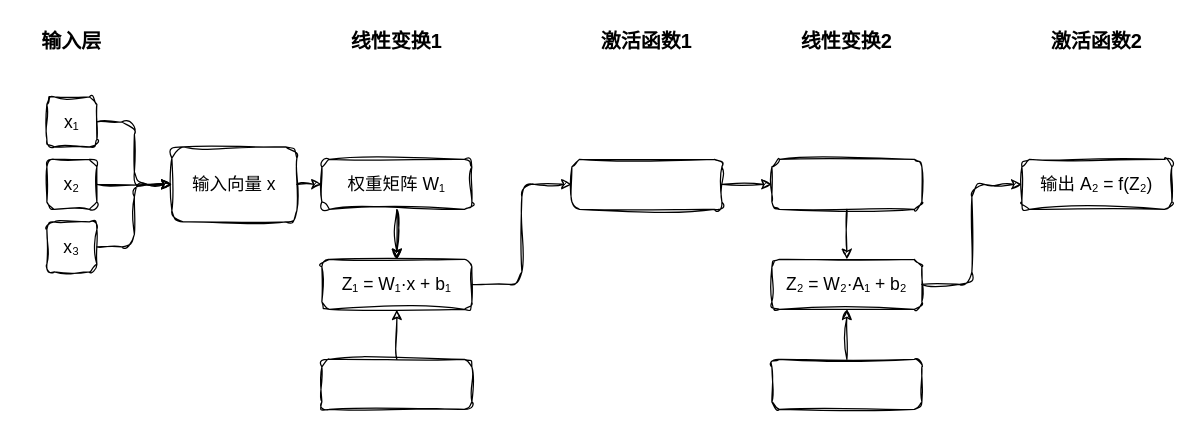
The diagram is 1194 pixels wide and 431 high, and some of its shapes have lost their labels. Each missing label, with the centre of its shape:
A₁ = σ(Z₁): point (646, 183)
偏置 b₁: point (396, 383)
偏置 b₂: point (846, 383)
权重矩阵 W₂: point (846, 183)
